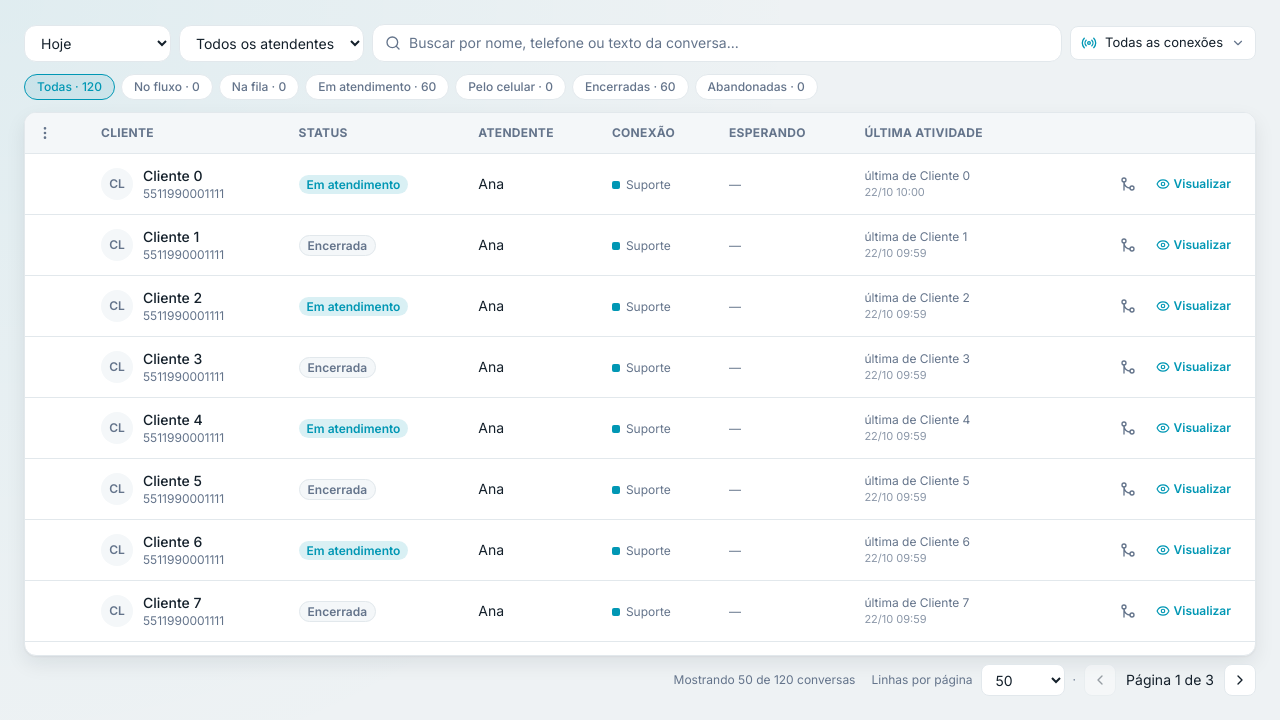
Test case: Gestão: linhas por página e páginas › mostra 50 por padrão, o total da busca e quantas páginas; as setas trocam de página
expect the text "Mostrando 50 de 120 conversas" is shown: met, box x1=674 y1=672 x2=855 y2=688
expect the text "Página 1 de 3" is shown: met, box x1=1124 y1=670 x2=1216 y2=690
Click the button named "Próxima página".
click(1240, 680)  # box x1=1224 y1=664 x2=1256 y2=696
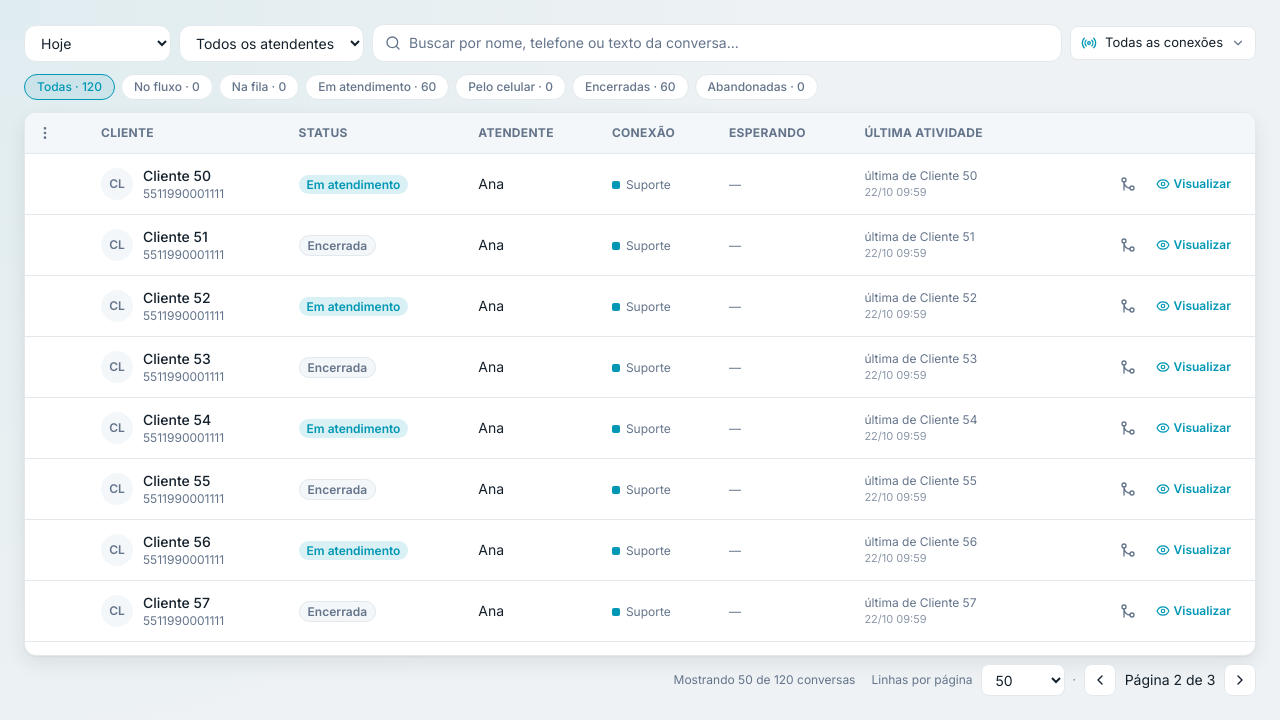
expect the text "Página 2 de 3" is shown: met, box x1=1124 y1=670 x2=1216 y2=690
